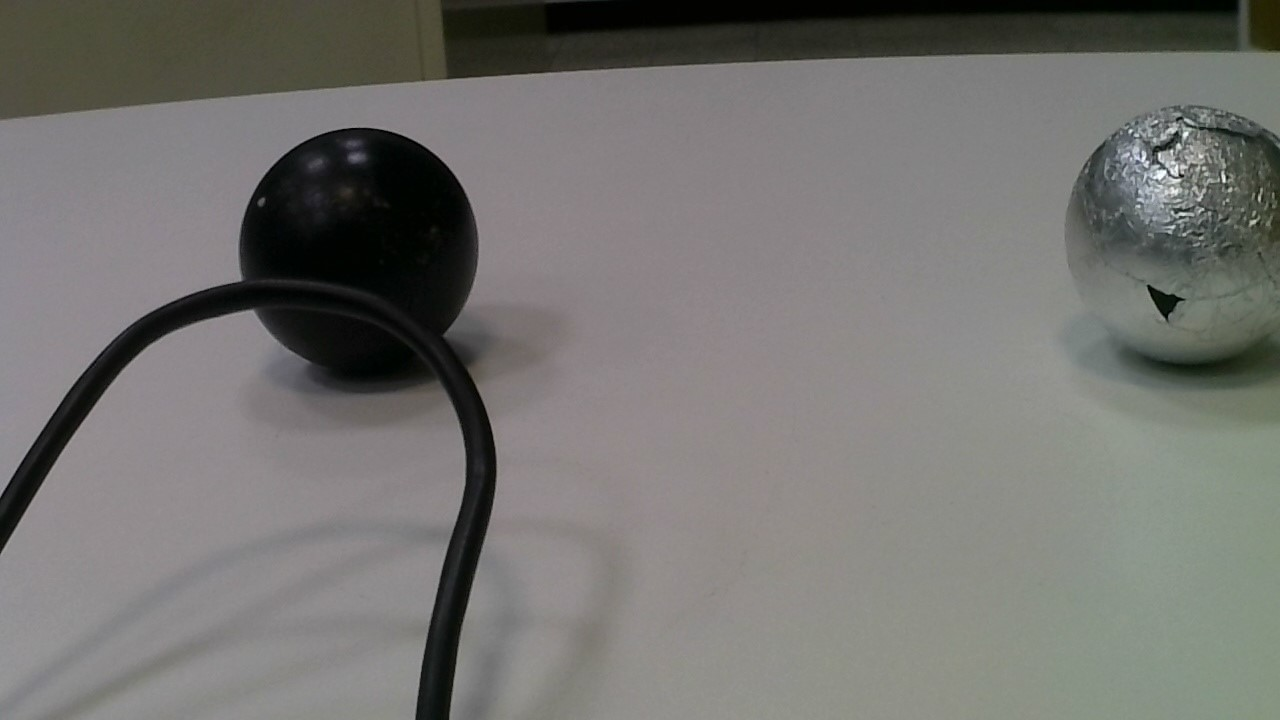silver_ball: (1045, 95, 1280, 378)
